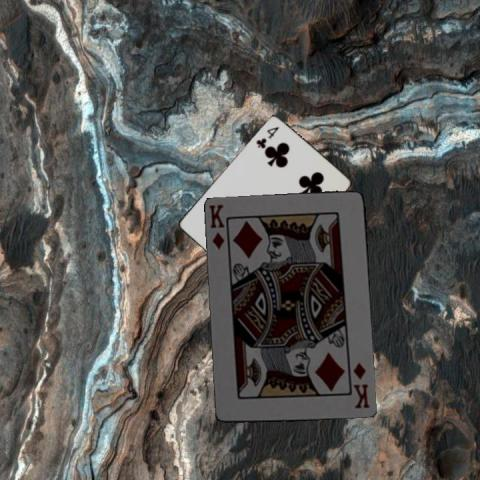4c: (253, 123, 280, 150)
Kd: (350, 360, 371, 410), (206, 201, 226, 251)
